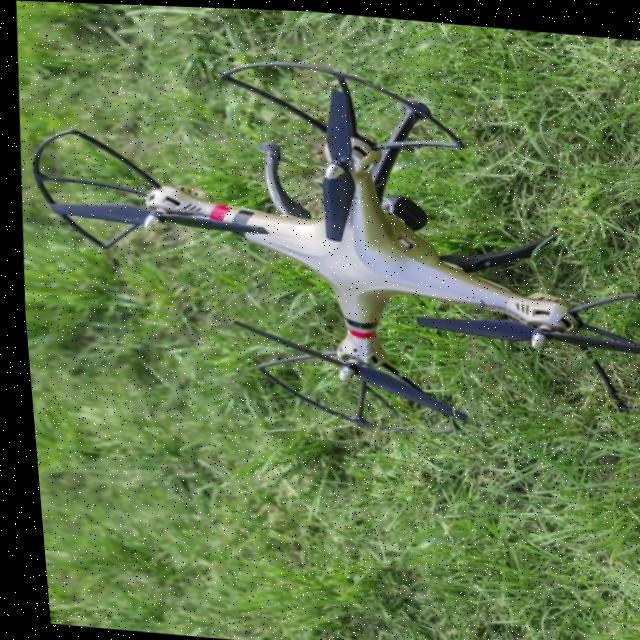drones: (0, 6, 640, 508)
